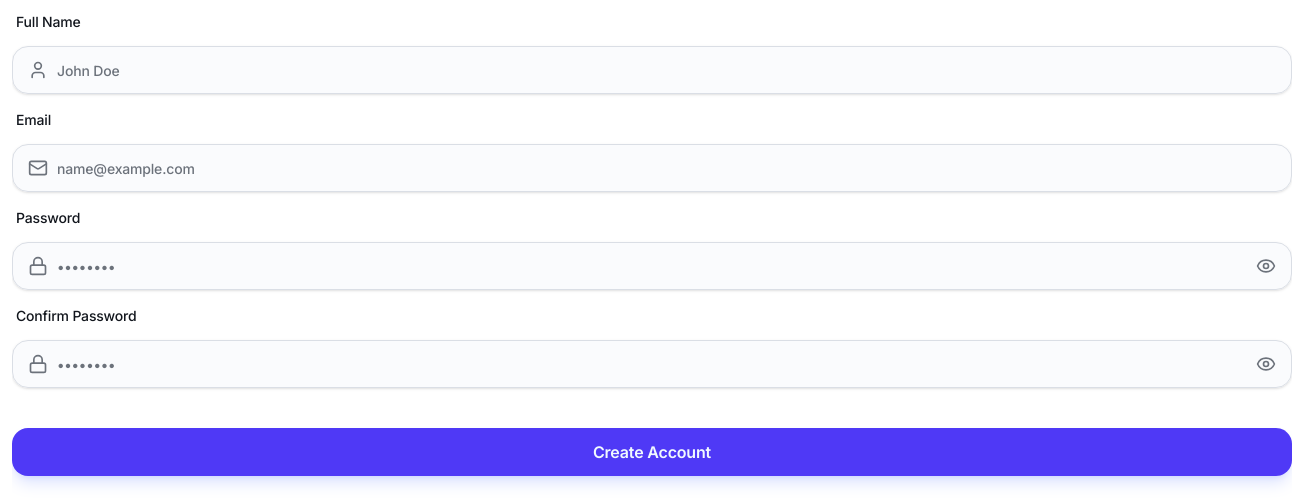
Test: SignupForm Component › submits valid data to API and shows success message
Type "Houari" into the field with placeholder "John Doe" at (652, 70), box left=12, top=46, right=1292, bottom=94
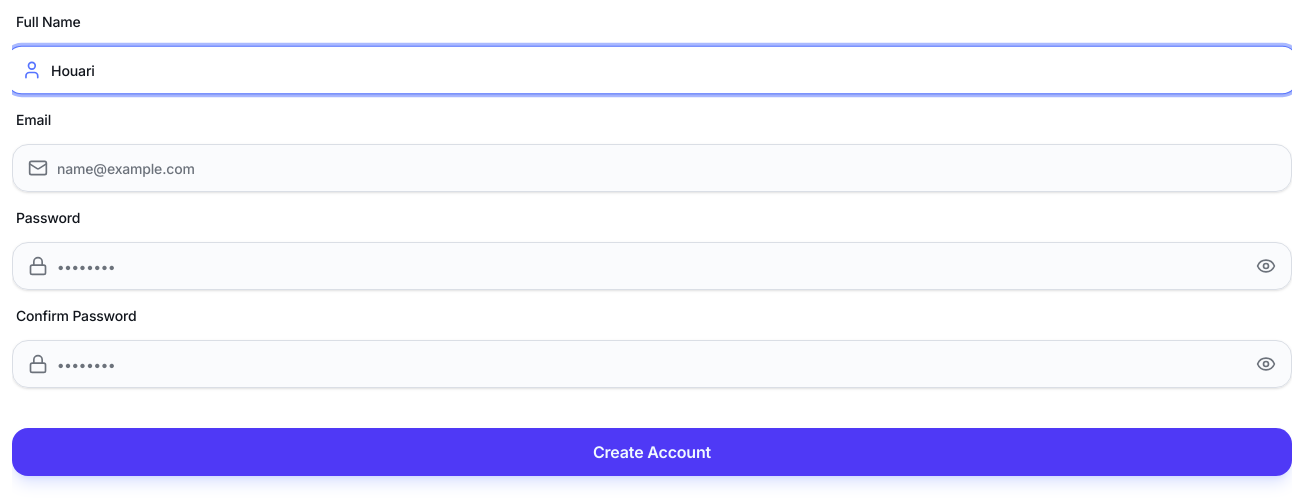
Type "test@example.com" into the field with placeholder "name@example.com" at (652, 168), box left=12, top=144, right=1292, bottom=192
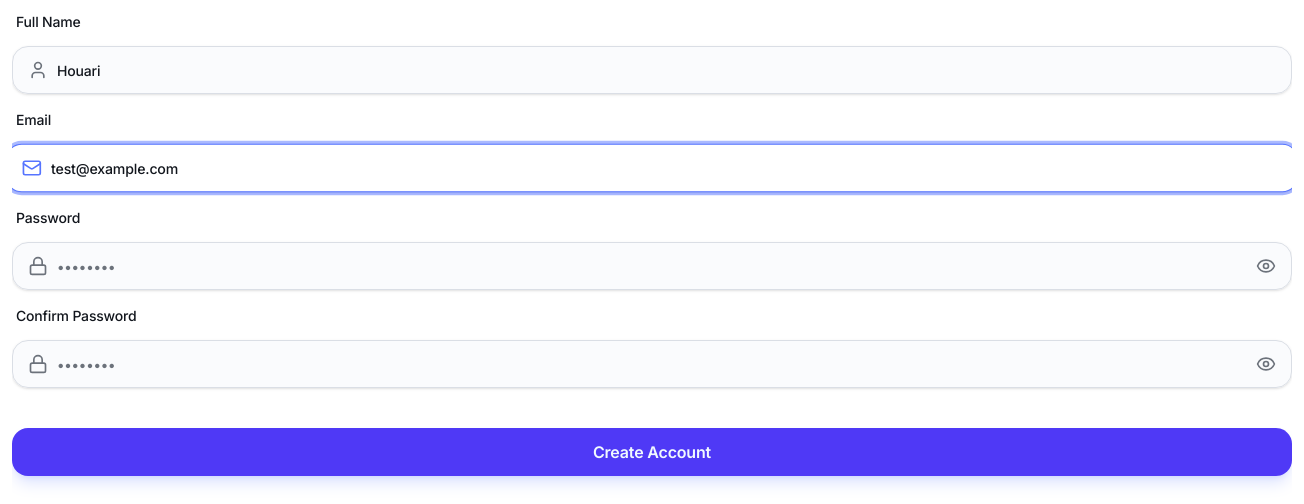
Type "password123" into the 1st password field with placeholder "••••••••" at (652, 266), box left=12, top=242, right=1292, bottom=290
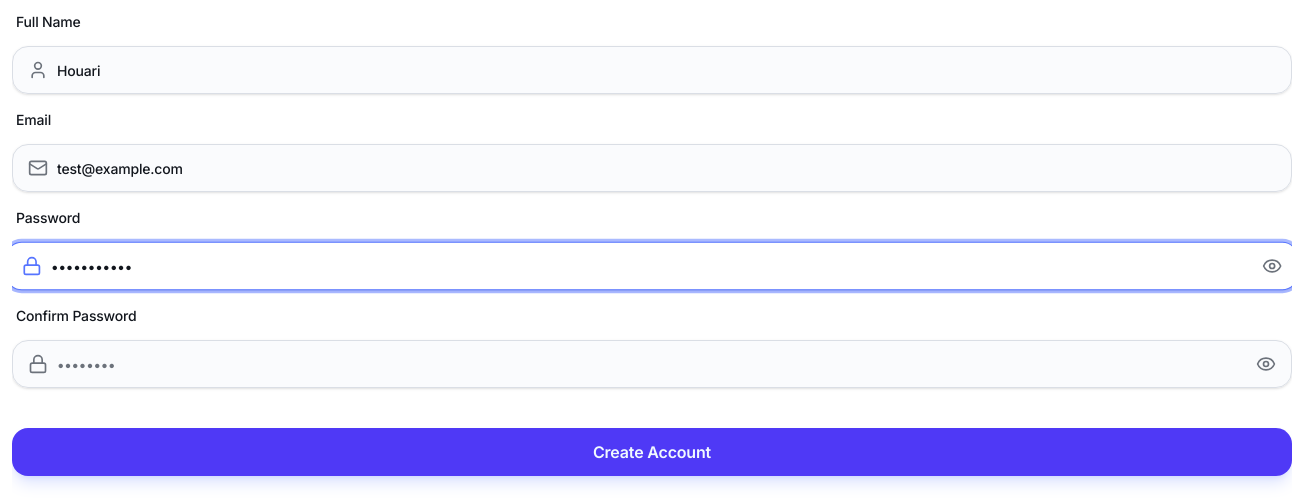
Type "password123" into the password field with placeholder "••••••••" at (652, 364), box left=12, top=340, right=1292, bottom=388
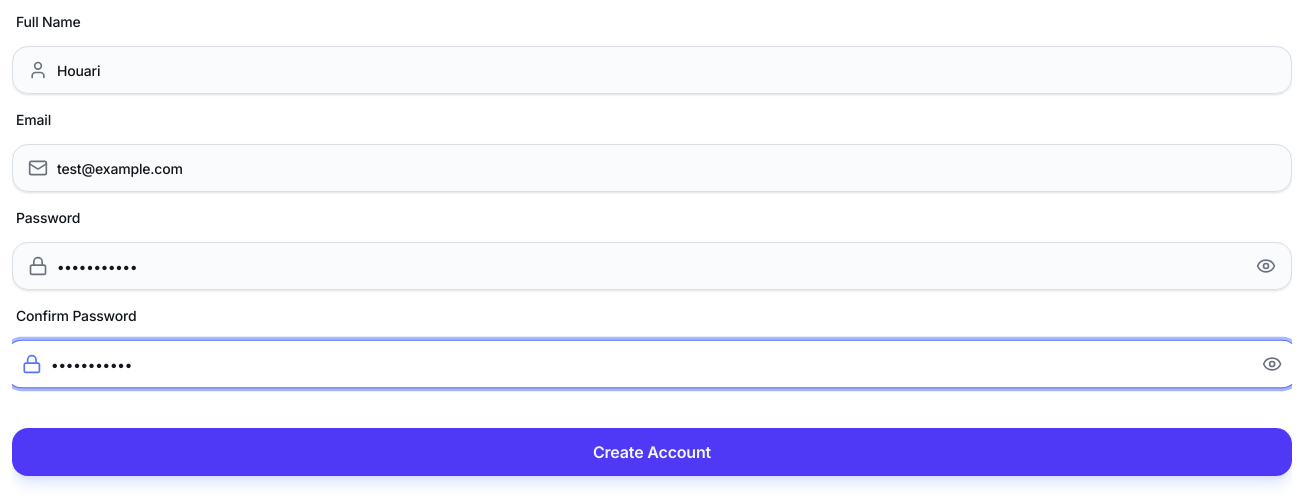
Click the button "Create Account" at (652, 452), box left=12, top=428, right=1292, bottom=476
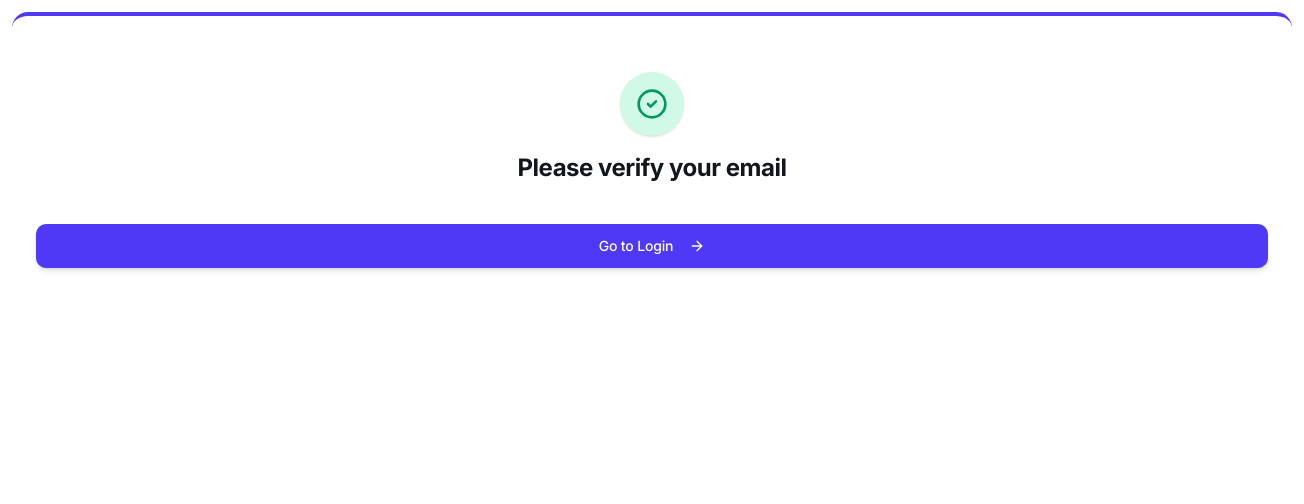
Expected: the heading "Please verify your email" is shown, left=518, top=152, right=786, bottom=184
